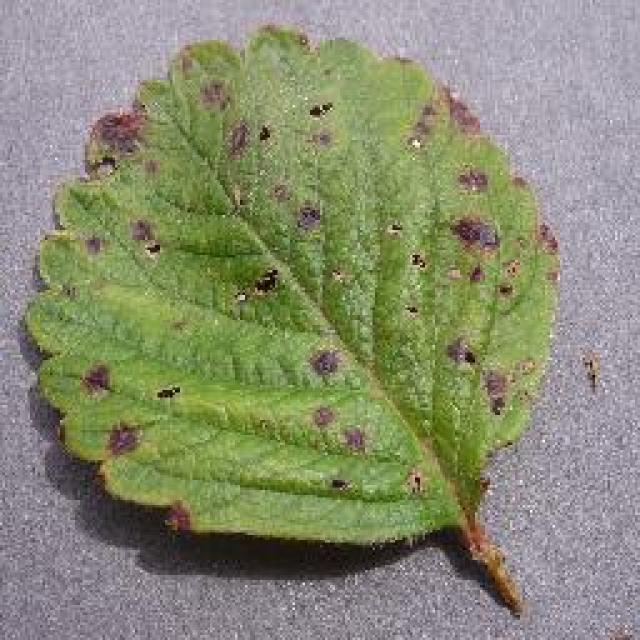Strawberry___Leaf_scorch: (10, 7, 575, 635)
